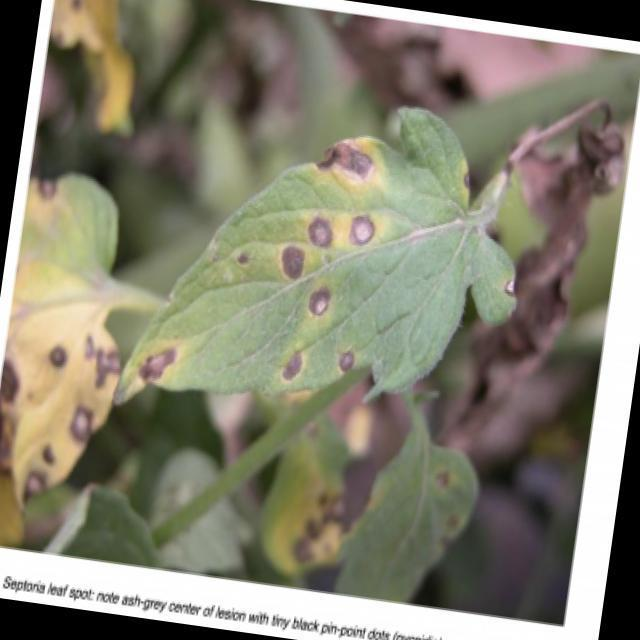Septoria: (248, 151, 422, 393), (0, 304, 117, 502)
